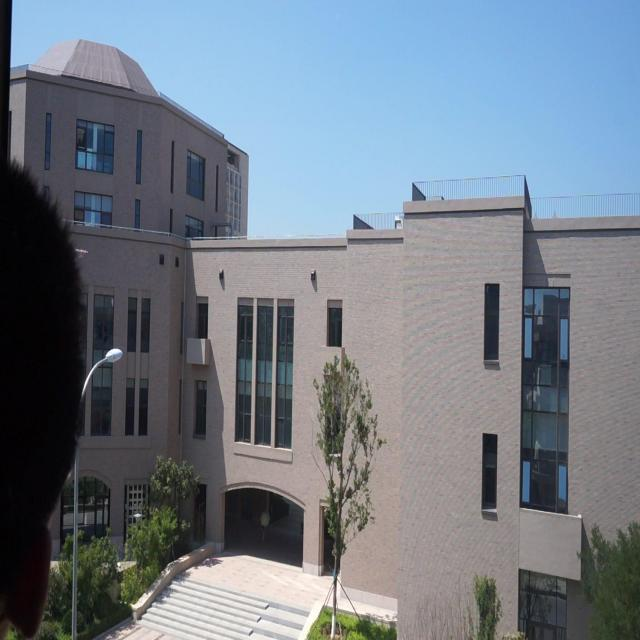UAV: (75, 248, 88, 257)
